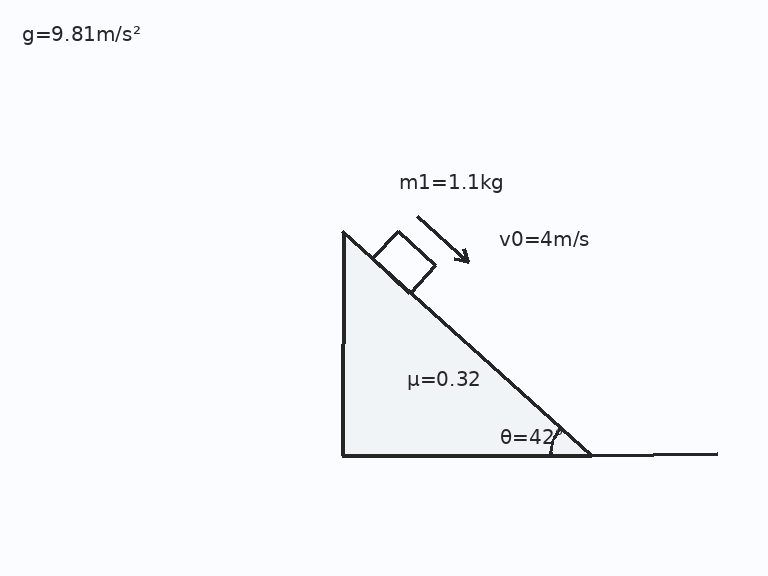block: (370, 229, 437, 295)
ramp: (341, 230, 592, 457)
